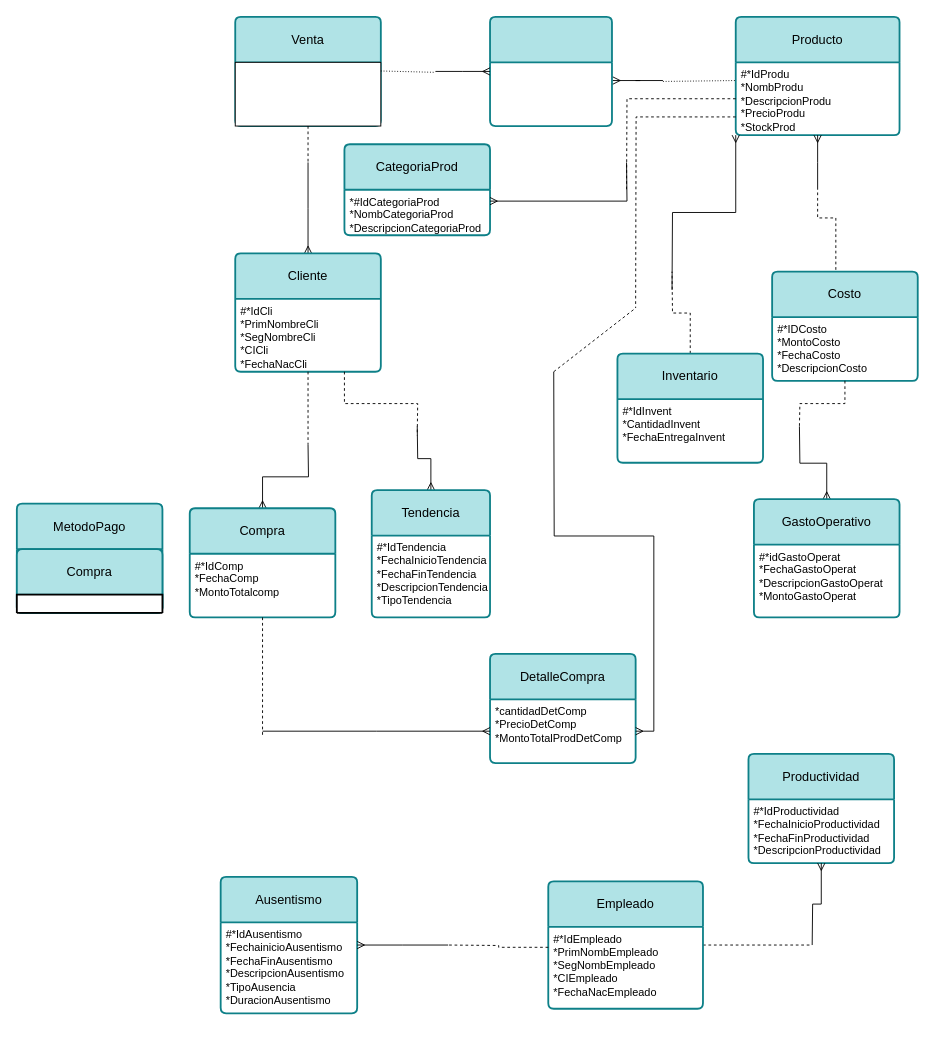
The diagram is 934 pixels wide and 1048 high, and some of its shapes have lost their labels. Here are the shapes that lost their labels. From the top down, the centre of each, then its label:
the point at 550,70: Detalle
the point at 307,93: *#IdVenta *FechaVenta *HoraVenta *TotalVenta
